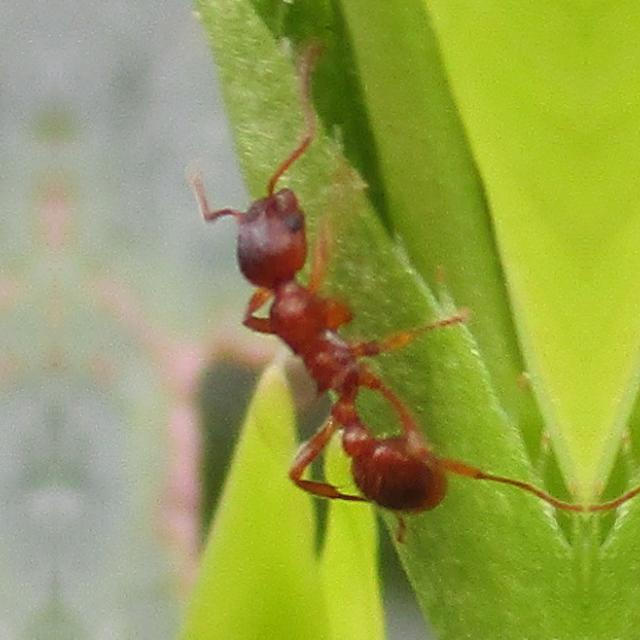Myrmica: (174, 126, 476, 538)
